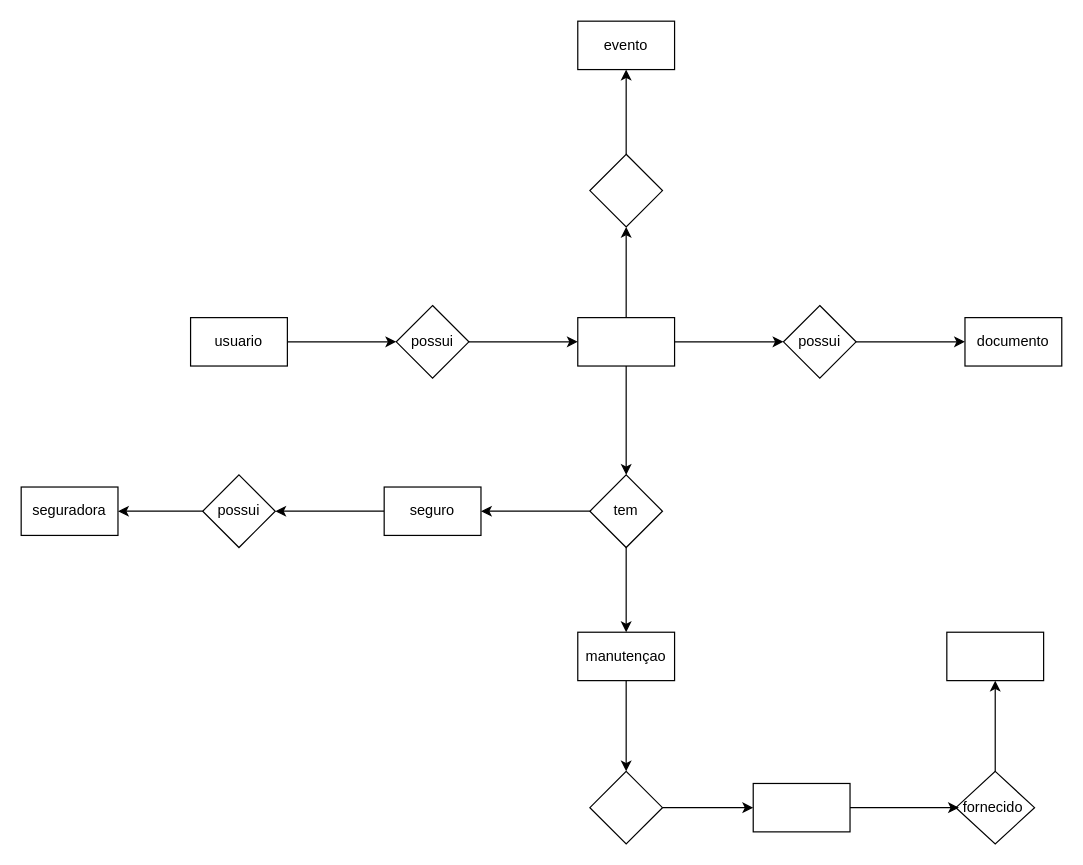
Some shapes in this 1083 by 865 pixel diagram are drawn without their labels. Here are the shapes that lost their labels. From the top down, the box of each, then its label:
(589, 153, 662, 227): participa
(577, 316, 675, 366): veiculo
(946, 631, 1044, 681): fornecedor
(589, 770, 662, 844): usa
(752, 782, 850, 832): peça
